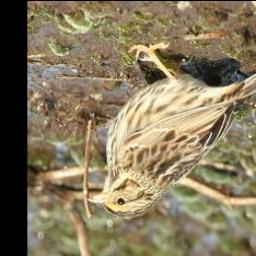Sparrow: (88, 40, 256, 221)
